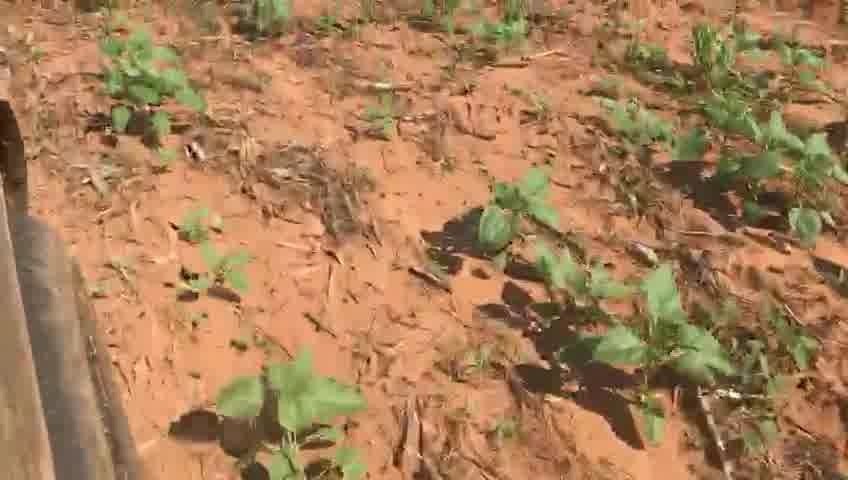sunflower: (600, 261, 743, 440), (212, 353, 357, 433), (745, 128, 837, 239), (471, 155, 573, 245), (676, 99, 765, 197), (102, 29, 198, 106), (528, 239, 627, 311), (113, 89, 211, 145), (247, 437, 366, 478), (179, 245, 253, 301), (599, 96, 669, 148), (171, 204, 223, 250), (233, 1, 297, 33)
